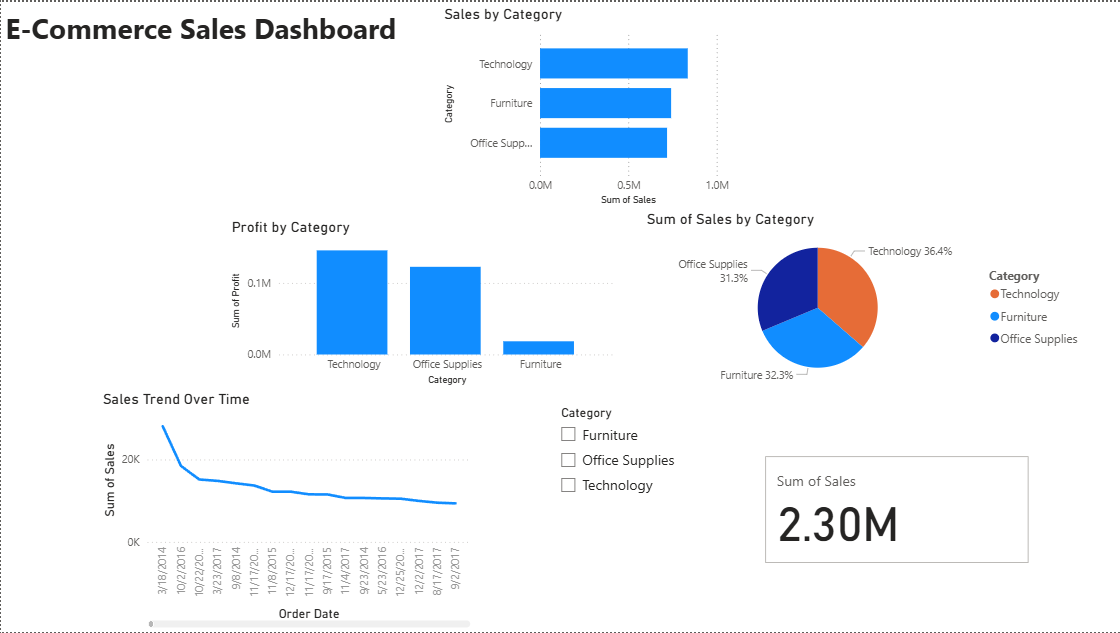

What the dashboard file says about the page in this screenshot:
{"tool":"powerbi","page":{"name":"Page 1","canvas":[1280,720],"ordinal":0},"visuals":[{"type":"clusteredBarChart","title":"Sales by Category","fields":{"Category":["Sample - Superstore.Category"],"Y":["Sum(Sample - Superstore.Sales)"]},"box":[501.4,2.9,335.7,234.3],"z":0},{"type":"lineChart","title":"Sales Trend Over Time","fields":{"Category":["Sample - Superstore.Order Date"],"Y":["Sum(Sample - Superstore.Sales)"]},"box":[111.4,442.9,430,277.1],"z":1000},{"type":"pieChart","fields":{"Category":["Sample - Superstore.Category"],"Y":["Sum(Sample - Superstore.Sales)"]},"box":[732.9,237.1,511.4,205.7],"z":2000},{"type":"clusteredColumnChart","title":"Profit by Category","fields":{"Category":["Sample - Superstore.Category"],"Y":["Sum(Sample - Superstore.Profit)"]},"box":[258.6,247.1,448.6,195.7],"z":3000},{"type":"slicer","fields":{"Values":["Sample - Superstore.Category"]},"box":[627.1,455.7,210,264.3],"z":4000},{"type":"textbox","box":[0,2.9,482.9,64.3],"z":5000},{"type":"cardVisual","fields":{"Data":["Sum(Sample - Superstore.Sales)"]},"box":[868.6,514.3,311.4,132.9],"z":5001}]}

Visuals, with their boxes in screenshot pixels (x1, y1, x2, y2), scaled from the page's 1280x720 canvas onto the 1120x633 screenshot:
"Sales by Category" clusteredBarChart: x1=439 y1=3 x2=732 y2=209
"Sales Trend Over Time" lineChart: x1=97 y1=389 x2=474 y2=632
pieChart - Sample - Superstore.Category x Sum(Sample - Superstore.Sales): x1=641 y1=208 x2=1089 y2=389
"Profit by Category" clusteredColumnChart: x1=226 y1=217 x2=619 y2=389
slicer - Sample - Superstore.Category: x1=549 y1=401 x2=732 y2=632
textbox: x1=0 y1=3 x2=423 y2=59
cardVisual - Sum(Sample - Superstore.Sales): x1=760 y1=452 x2=1032 y2=569
